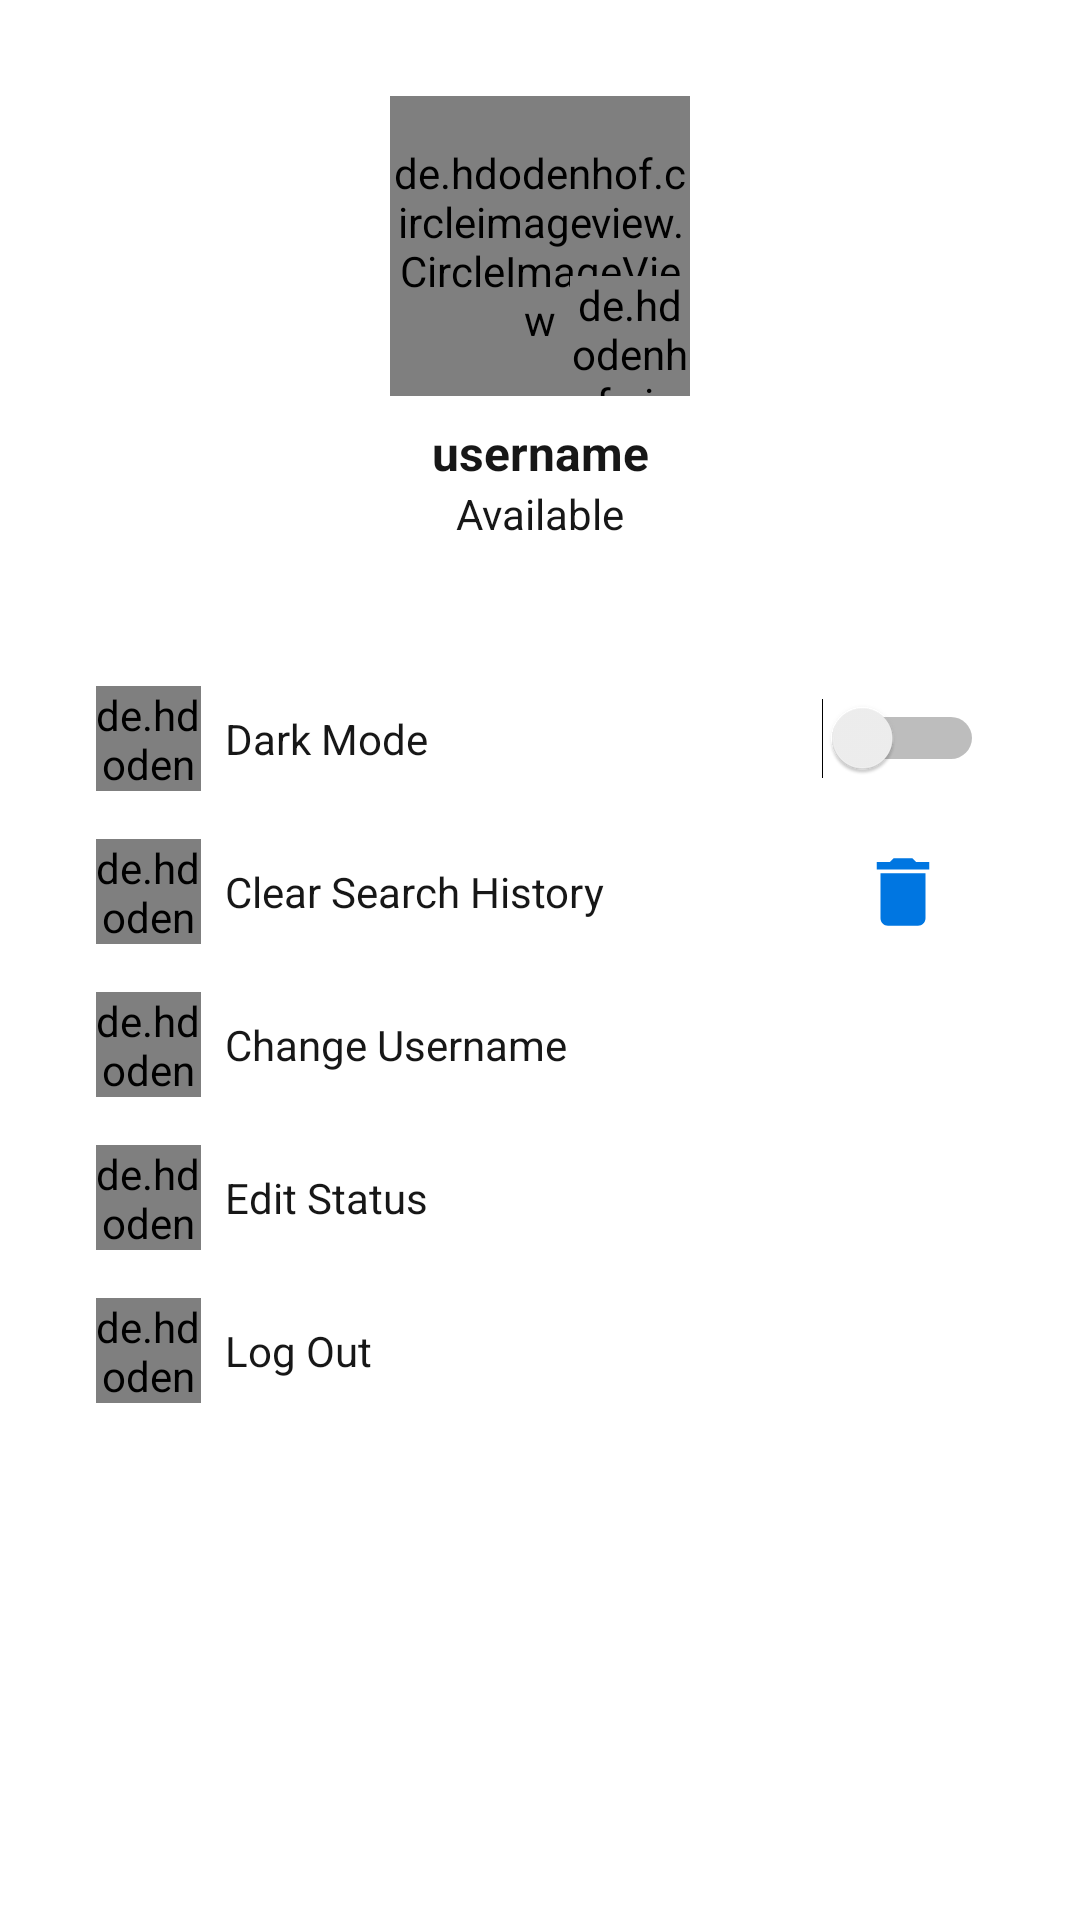

Icons on this 1080×1920 Android screen, each with its box as box=[x1, y1, x2, y2]:
bin: box=[876, 858, 930, 926]
